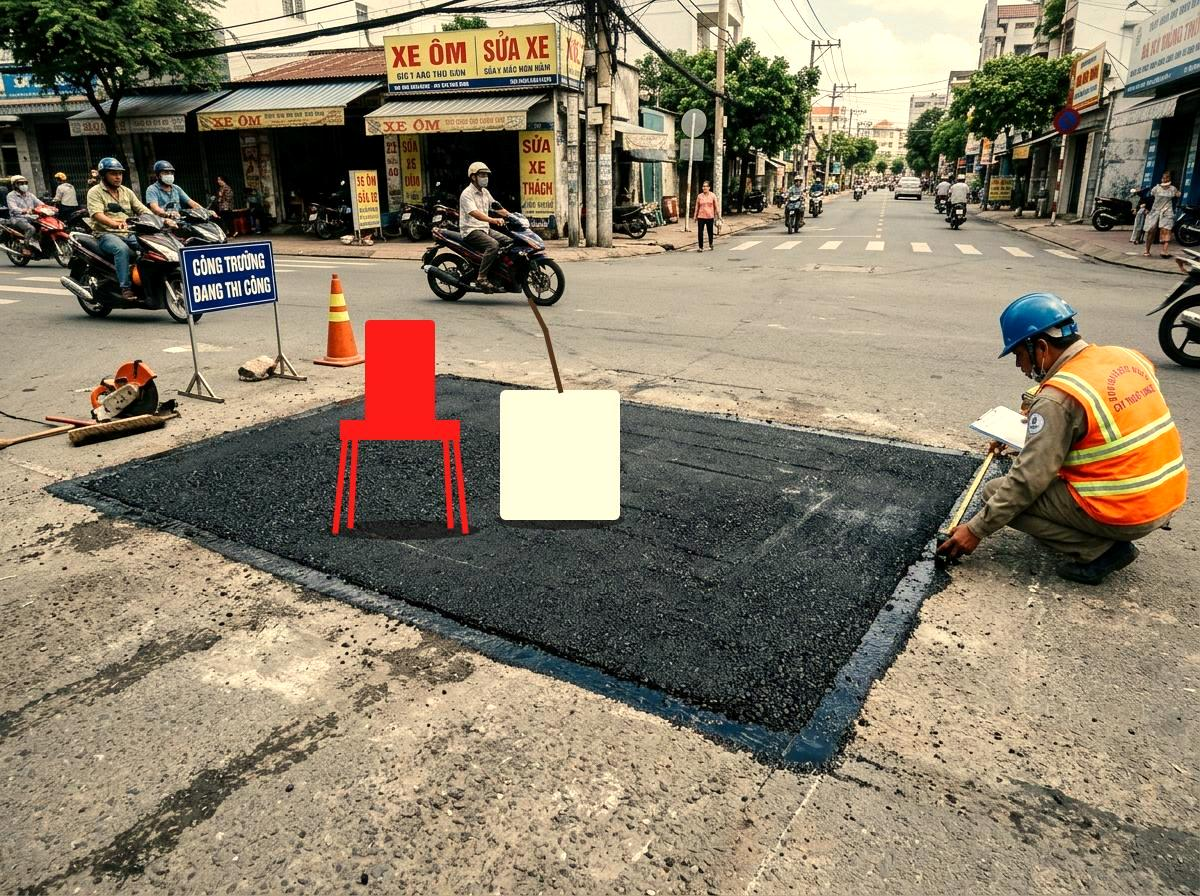ROAD_OBSTACLE: (325, 315, 475, 535), (495, 365, 625, 525)
